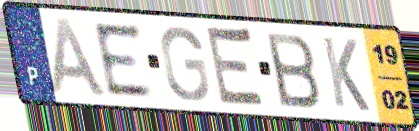A: (49, 15, 111, 100)
B: (263, 30, 323, 111)
E: (204, 21, 269, 113), (90, 21, 156, 98)
G: (158, 25, 212, 104)
K: (319, 34, 373, 115)
